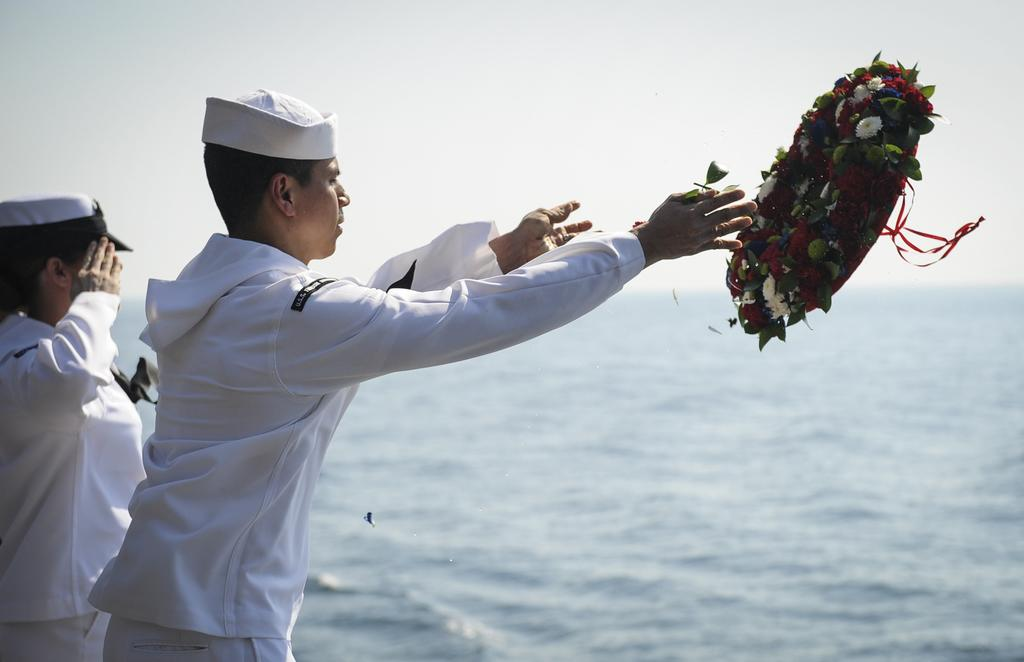Hat: (0, 192, 131, 260)
